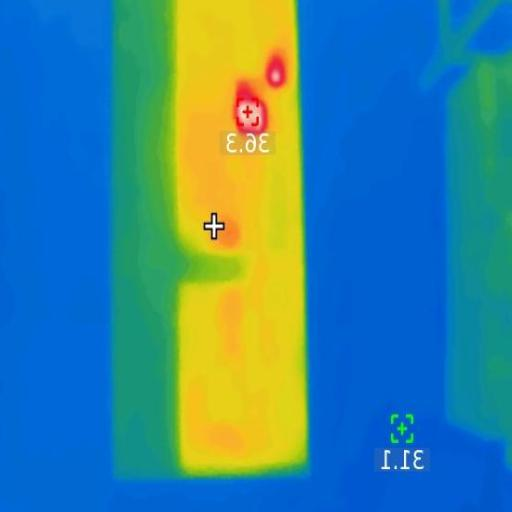hotspot: (235, 94, 262, 132), (265, 61, 283, 88)
